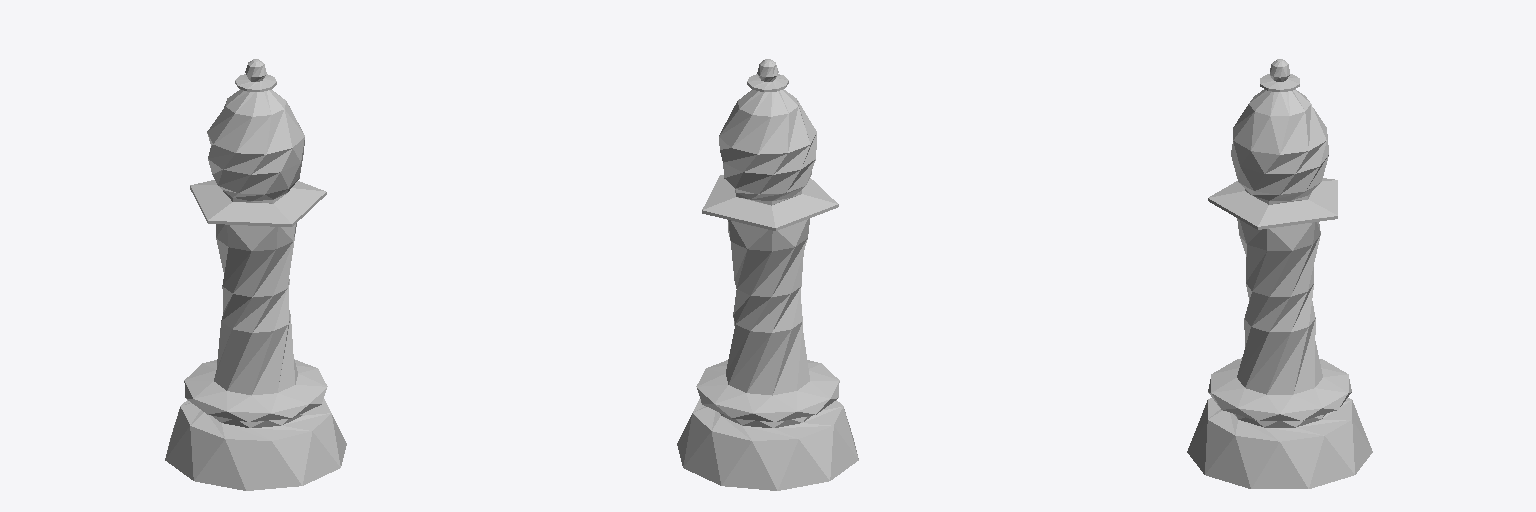
Rendered from Bishop.obj.
3 renders of one model, left to right at view 1: azimuth 30°, elevation 25°; view 2: azimuth 150°, elevation 25°; view 3: azimuth 270°, elevation 25°, orthographic.
Visible parts, largest first — view 1: Icosphere.005; view 2: Icosphere.005; view 3: Icosphere.005.
Boxes of the visible parts, x1=… form: Icosphere.005: x1=165, y1=59, x2=346, y2=490; Icosphere.005: x1=677, y1=59, x2=858, y2=490; Icosphere.005: x1=1187, y1=59, x2=1372, y2=488.
Bounding box in the file's own units: 0.7989 × 1.95 × 0.84.